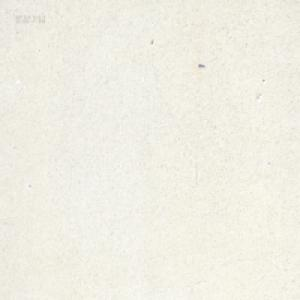Nail: (198, 63, 205, 68)
